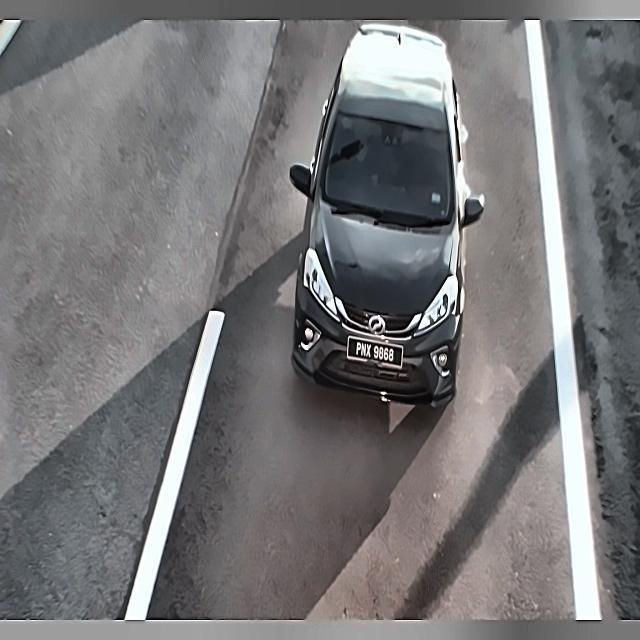car: (346, 331, 404, 378)
